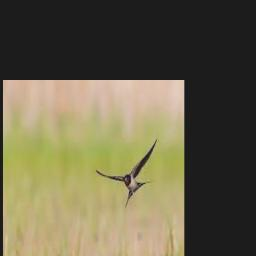Swallow: (95, 138, 157, 206)
